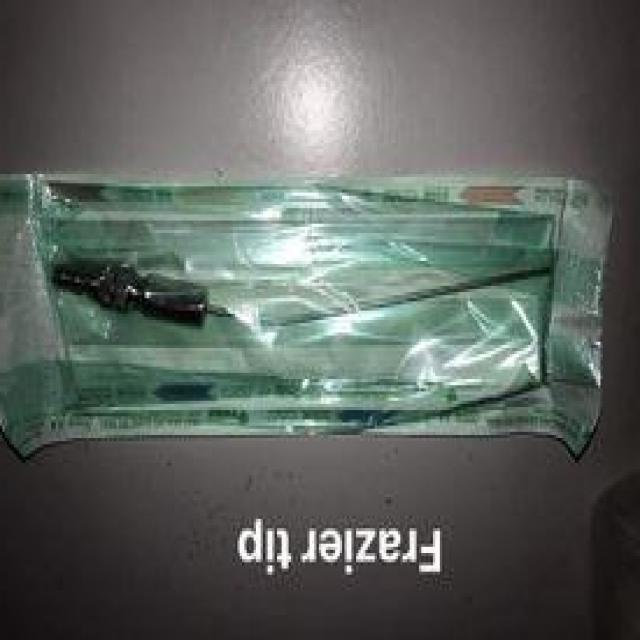Frazier: (37, 236, 573, 348)
